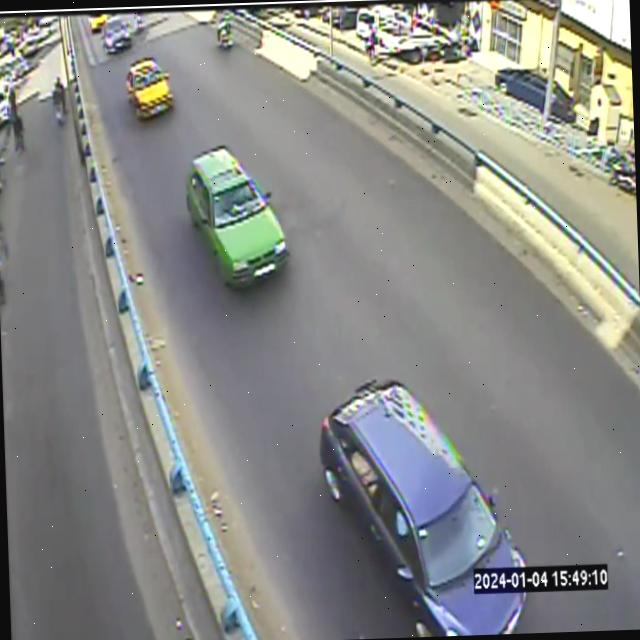car: (319, 379, 528, 636), (185, 144, 288, 284), (126, 57, 173, 118), (102, 16, 131, 53)
